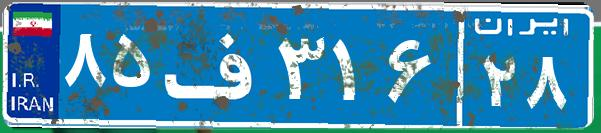1: (330, 28, 385, 110)
2: (475, 38, 525, 113)
3: (273, 28, 330, 110)
5: (110, 28, 158, 105)
6: (385, 28, 445, 110)
8: (57, 26, 110, 107), (525, 38, 570, 115)
ف: (158, 15, 273, 115)
